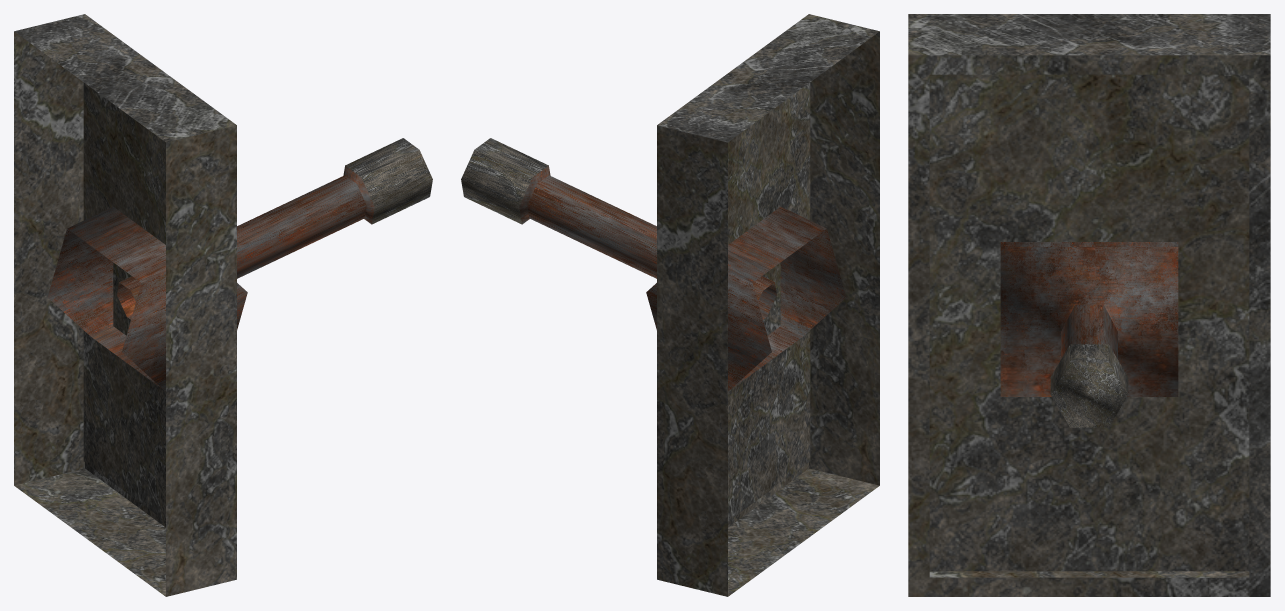
File: lever_anim8.obj
3 views of the same model, side by side, from view 1: azimuth 30°, elevation 25°; view 2: azimuth 150°, elevation 25°; view 3: azimuth 270°, elevation 25° (orthographic). The views are drawn at different scales.
Visible parts, largest first — view 1: Cube, Cylinder; view 2: Cube, Cylinder; view 3: Cube, Cylinder.
Boxes of the visible parts, box(x1,y1,x2,y2) form: Cube: box(14, 14, 236, 596); Cylinder: box(47, 138, 432, 390); Cube: box(657, 14, 879, 596); Cylinder: box(461, 138, 846, 390); Cube: box(908, 14, 1270, 596); Cylinder: box(1000, 242, 1178, 427).
Bounding box in the file's own units: 1.55 × 2 × 1.21.
Materials: 2 (2 with a texture image).
